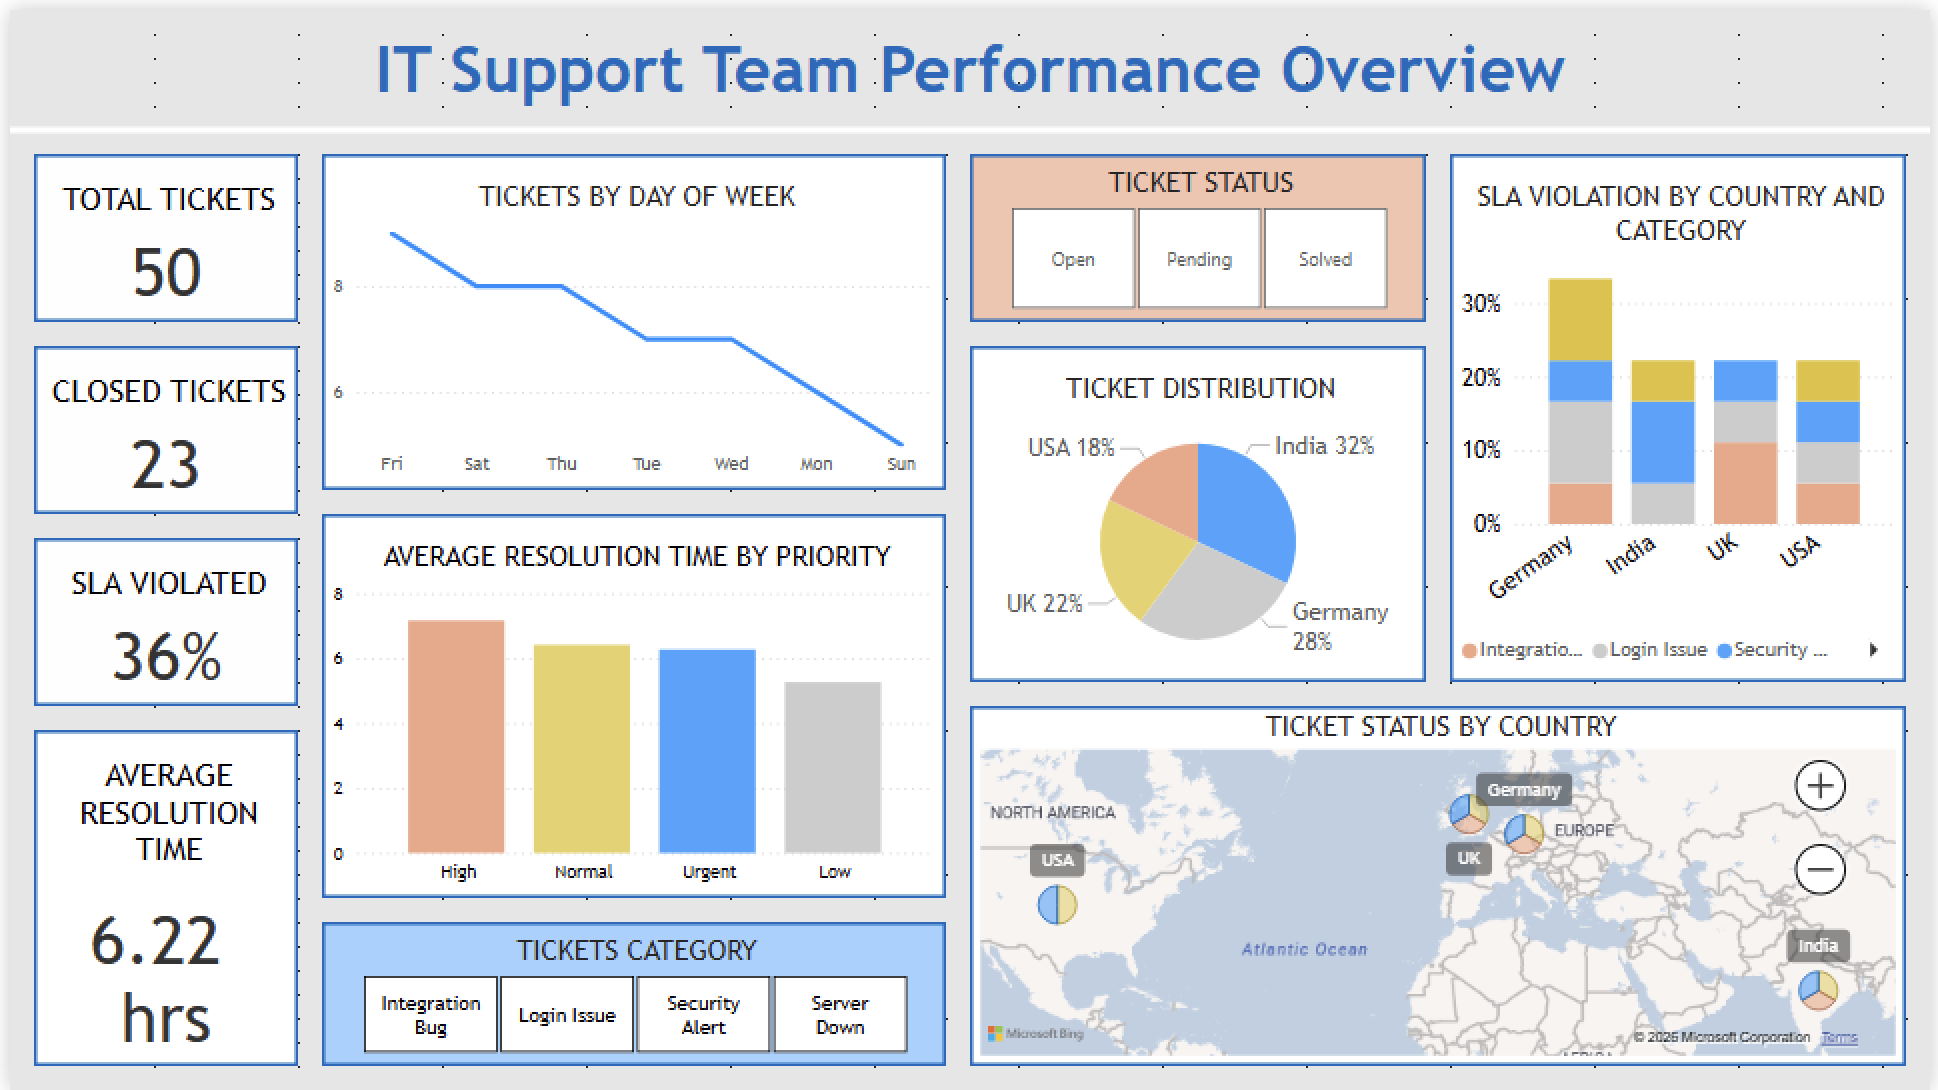

The dashboard page shown, as its layout file describes it:
{"tool":"powerbi","page":{"name":"Page 1","canvas":[1280,720],"ordinal":0},"visuals":[{"type":"textbox","title":"IT Support Team Performance Overview","box":[0,0,1280,80],"z":0},{"type":"shape","box":[0,64,1280,32],"z":1000},{"type":"card","title":"AVERAGE RESOLUTION TIME","fields":{"Values":["tickets.Average Resolution Time"]},"box":[16,480,176,224],"z":2000},{"type":"card","title":"TOTAL TICKETS","fields":{"Values":["tickets.Total Tickets"]},"box":[16,96,176,112],"z":3000},{"type":"card","title":"SLA VIOLATED","fields":{"Values":["tickets.SLA Violated percentage"]},"box":[16,352,176,112],"z":4000},{"type":"card","title":"CLOSED TICKETS","fields":{"Values":["tickets.Closed Tickets"]},"box":[16,224,176,112],"z":5000},{"type":"clusteredColumnChart","title":"AVERAGE RESOLUTION TIME BY PRIORITY","fields":{"Category":["tickets.tickets.priority"],"Y":["tickets.Average Resolution Time"]},"box":[208,336,416,256],"z":6000},{"type":"lineChart","title":"TICKETS BY DAY OF WEEK","fields":{"Category":["tickets.Day"],"Y":["CountNonNull(tickets.tickets.ticket_id)"]},"box":[208,96,416,224],"z":7000},{"type":"columnChart","title":"SLA VIOLATION BY COUNTRY AND CATEGORY","fields":{"Category":["tickets.tickets.country"],"Series":["tickets.tickets.category"],"Y":["tickets.SLA Violated"]},"box":[960,96,304,352],"z":8000},{"type":"pieChart","title":"TICKET DISTRIBUTION","fields":{"Category":["tickets.tickets.country"],"Y":["CountNonNull(tickets.tickets.ticket_id)"]},"box":[640,224,304,224],"z":9000},{"type":"map","title":"TICKET STATUS BY COUNTRY","fields":{"Category":["tickets.tickets.country"],"Series":["tickets.tickets.status"]},"box":[640,464,624,240],"z":10000},{"type":"slicer","title":"TICKETS CATEGORY","fields":{"Values":["tickets.tickets.category"]},"box":[208,608,416,96],"z":11000},{"type":"slicer","title":"TICKET STATUS","fields":{"Values":["tickets.tickets.status"]},"box":[640,96,304,112],"z":12000}]}

Visuals, with their boxes in screenshot pixels (x1, y1, x2, y2), scaled from the page's 1280x720 canvas onto the 1938x1090 screenshot:
"IT Support Team Performance Overview" textbox: [0, 0, 1937, 121]
shape: [0, 97, 1937, 145]
"AVERAGE RESOLUTION TIME" card: [24, 727, 291, 1066]
"TOTAL TICKETS" card: [24, 145, 291, 315]
"SLA VIOLATED" card: [24, 533, 291, 702]
"CLOSED TICKETS" card: [24, 339, 291, 509]
"AVERAGE RESOLUTION TIME BY PRIORITY" clusteredColumnChart: [315, 509, 945, 896]
"TICKETS BY DAY OF WEEK" lineChart: [315, 145, 945, 484]
"SLA VIOLATION BY COUNTRY AND CATEGORY" columnChart: [1454, 145, 1914, 678]
"TICKET DISTRIBUTION" pieChart: [969, 339, 1429, 678]
"TICKET STATUS BY COUNTRY" map: [969, 702, 1914, 1066]
"TICKETS CATEGORY" slicer: [315, 920, 945, 1066]
"TICKET STATUS" slicer: [969, 145, 1429, 315]
